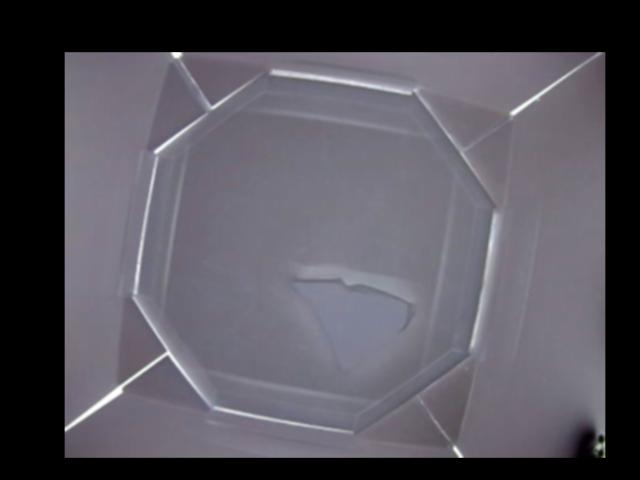China: (289, 276, 416, 376)
